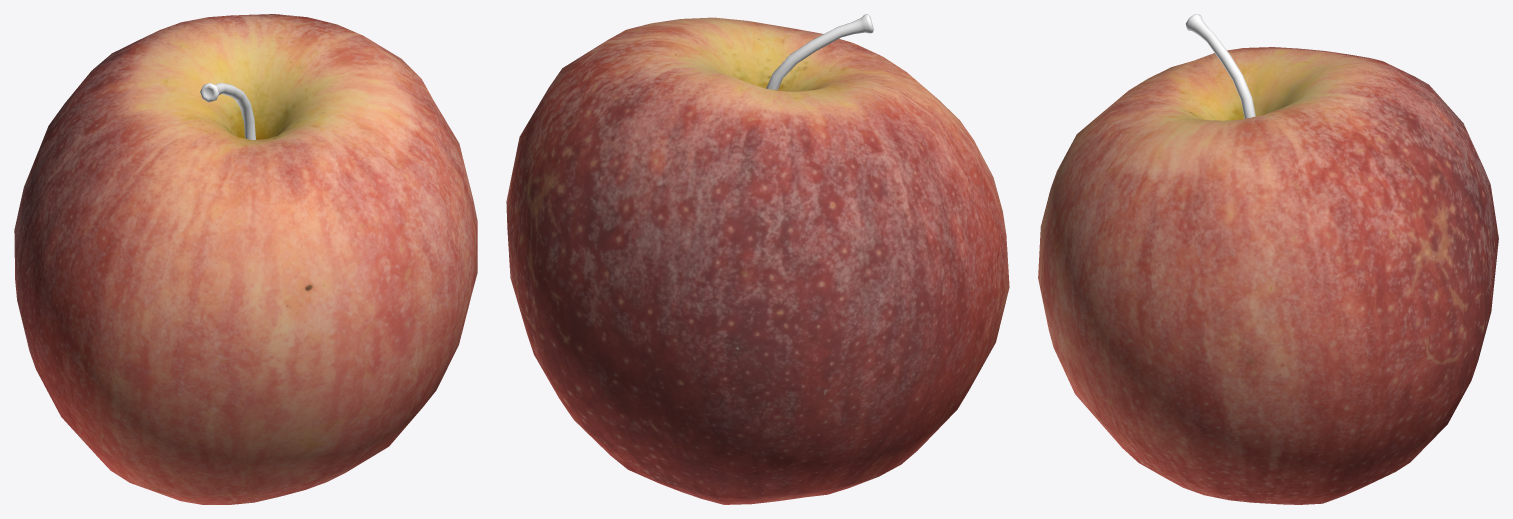
File: apple.gltf
The picture shows the model from 3 angles, left to right: view 1: azimuth 30°, elevation 25°; view 2: azimuth 150°, elevation 25°; view 3: azimuth 270°, elevation 25°; orthographic projection. The views are drawn at different scales.
Visible parts, largest first — view 1: AppleT4; view 2: AppleT4; view 3: AppleT4.
Part boxes in pixels (x1,y1,x2,y2): AppleT4: (14,14,477,504); AppleT4: (506,14,1009,504); AppleT4: (1038,14,1498,504).
Bounding box in the file's own units: 0.0836 × 0.0828 × 0.0822.
